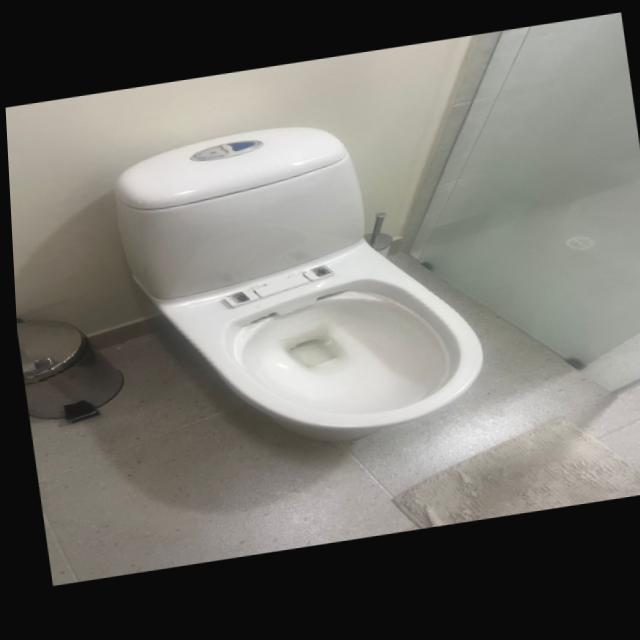toilet: (102, 104, 489, 475)
